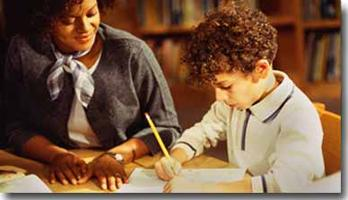person: (154, 4, 327, 194)
